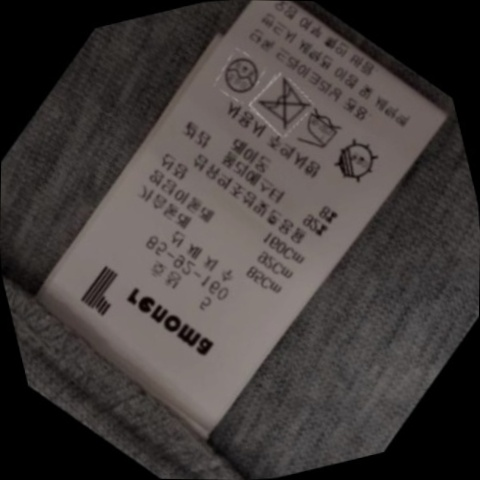DN_wash: (249, 76, 313, 133)
dry_clean_petrol_only: (214, 49, 265, 99)
iron_low: (292, 106, 349, 157)
line_dry_in_shade: (323, 135, 383, 189)
